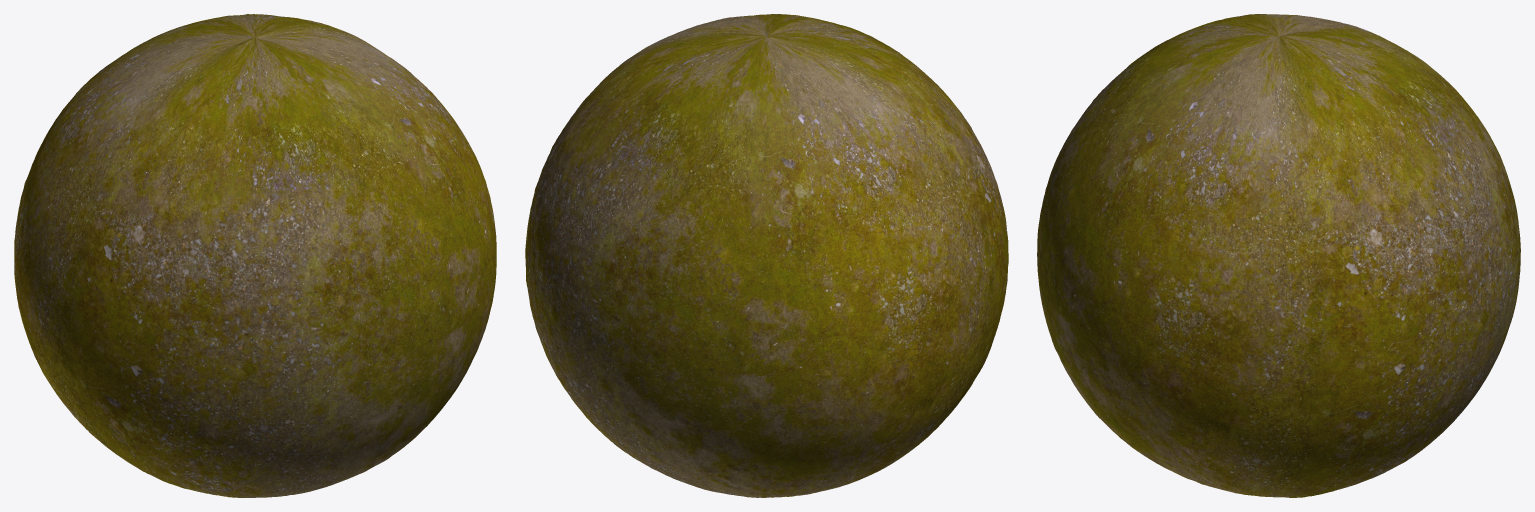
File: aerial_grass_rock_2k.gltf
3 views of the same model, side by side, from view 1: azimuth 30°, elevation 25°; view 2: azimuth 150°, elevation 25°; view 3: azimuth 270°, elevation 25° (orthographic).
Parts seen in each view (by area): view 1: sphere_gltf; view 2: sphere_gltf; view 3: sphere_gltf.
Boxes of the visible parts, x1,y1,x2,y2 form: sphere_gltf: (14, 14, 496, 497); sphere_gltf: (525, 14, 1008, 497); sphere_gltf: (1037, 14, 1520, 497).
Size of the model in its own units: 15.04 by 15.08 by 15.
1 material, 1 textured.
